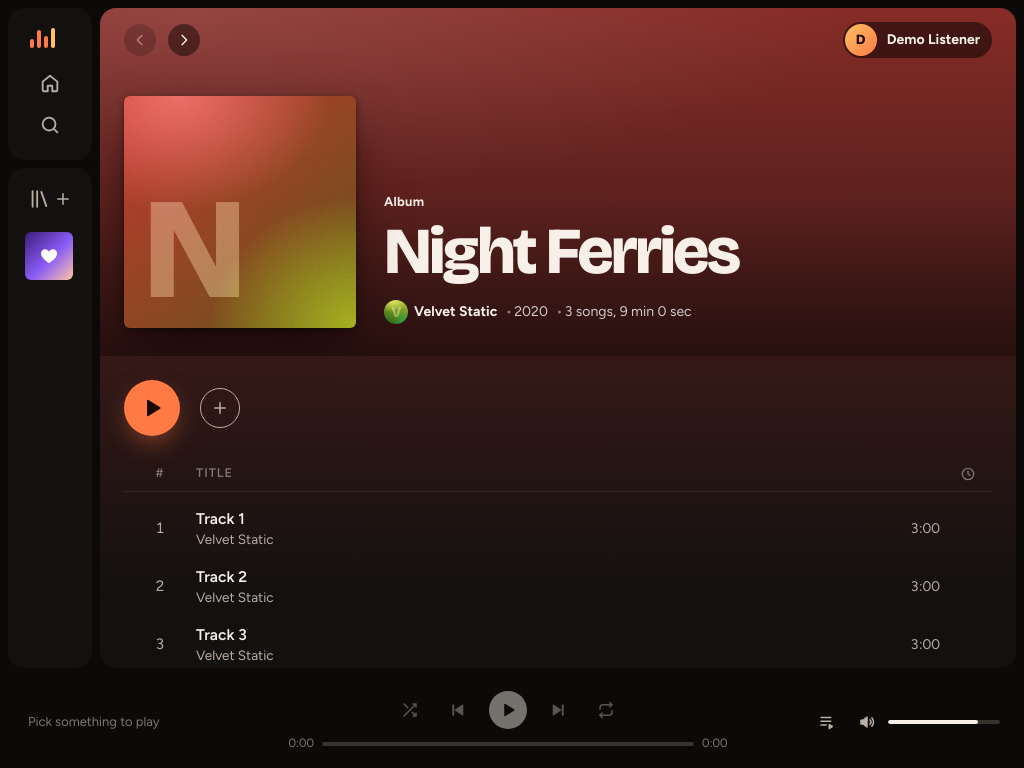
Test case: free plan rules in the player (D96) › an ad slot plays before the track
This screenshot has width=1024, height=768.
Click the button named "Play Night Ferries".
click(152, 408)  # box [124, 380, 180, 436]
Wait 5100 ms
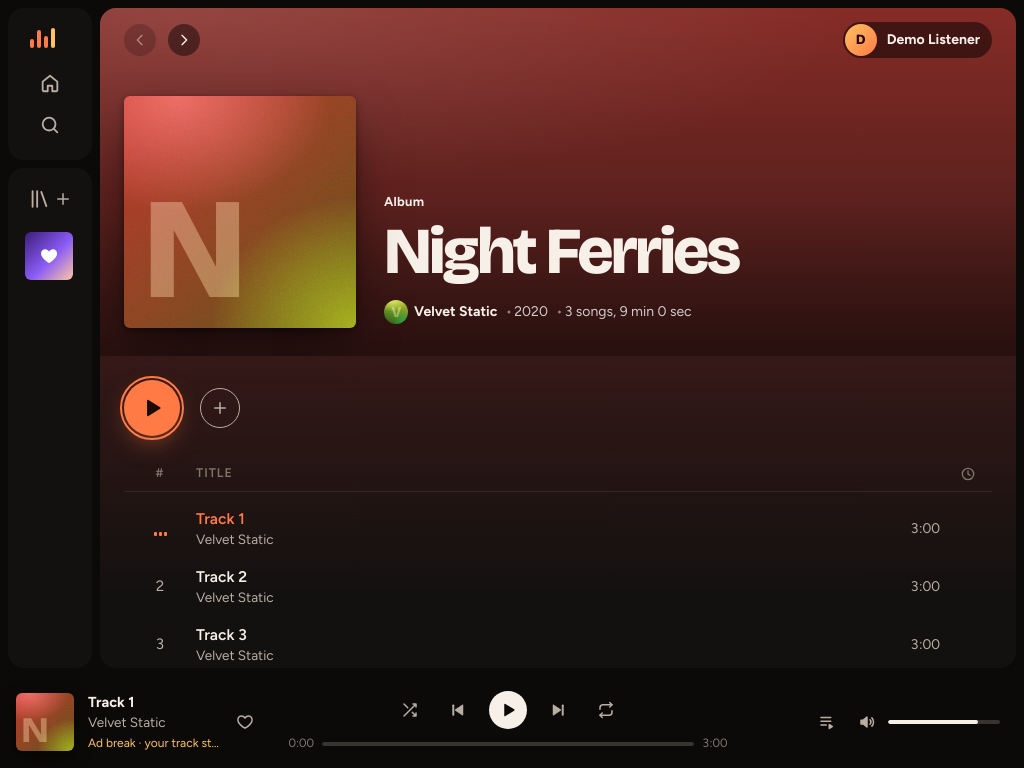
Check: the text "Ad break · your track starts in 5 s · Premium has no ads" is shown, box [88, 735, 222, 752]
